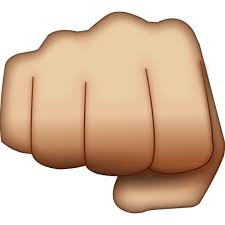fist: (6, 26, 217, 199)
